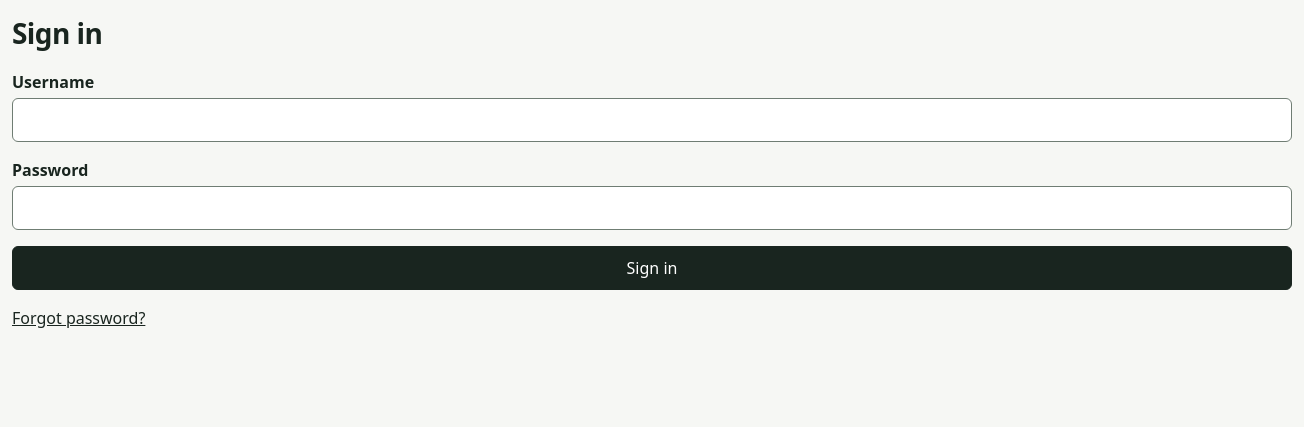
Test: explains rate limiting
Type "Alice" into the field labelled "Username" at point(652, 120), box x1=12 y1=98 x2=1292 y2=142
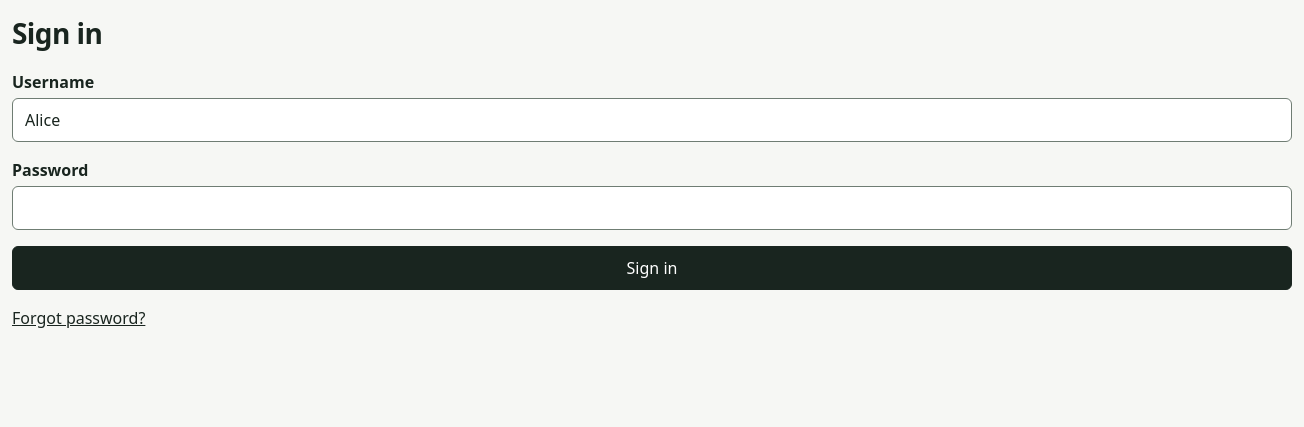
Type "correct horse battery" into the password field labelled "Password" at point(652, 208), box x1=12 y1=186 x2=1292 y2=230
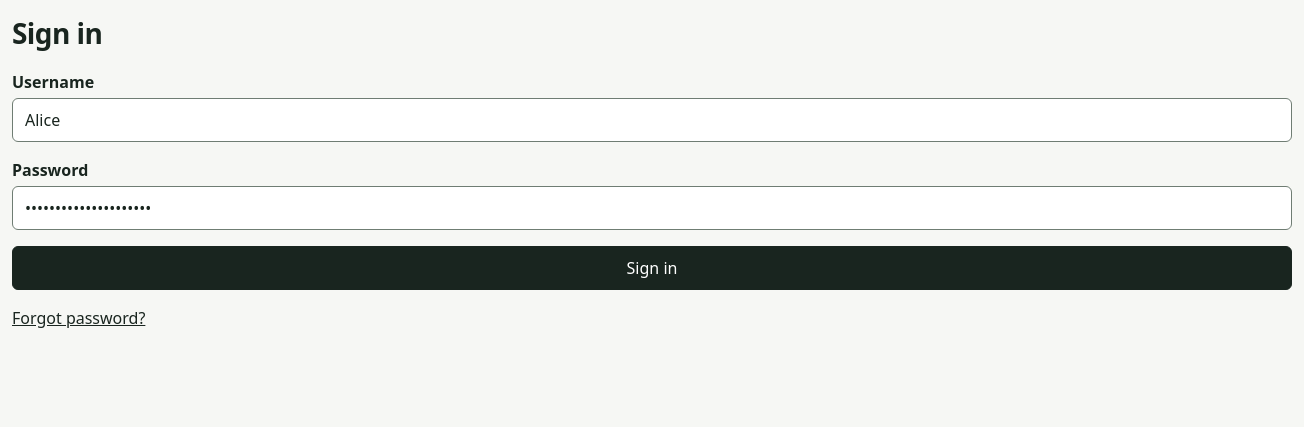
Submit the form, box x1=12 y1=70 x2=1292 y2=290
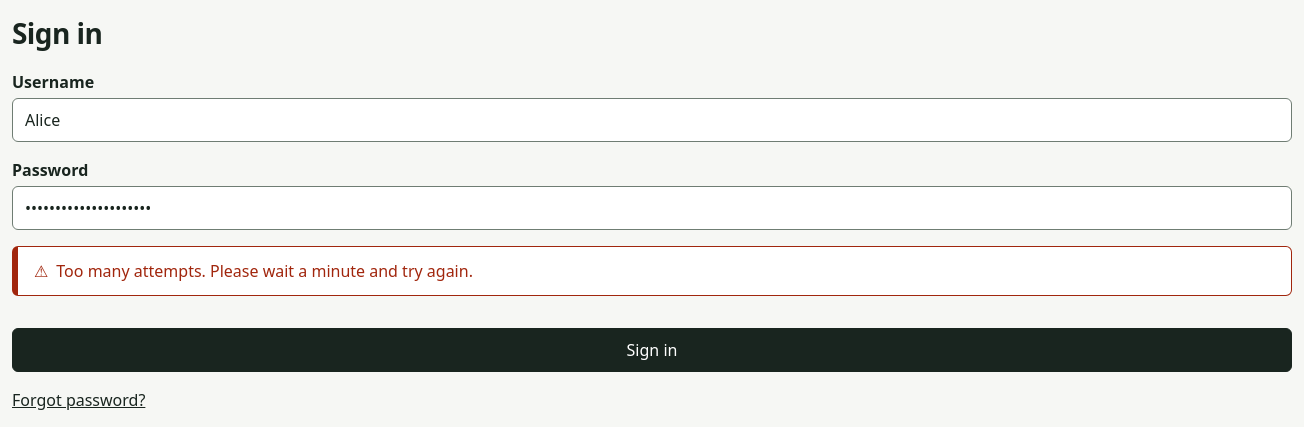
Result: the message shows "Too many attempts" at x1=56 y1=260 x2=473 y2=282
